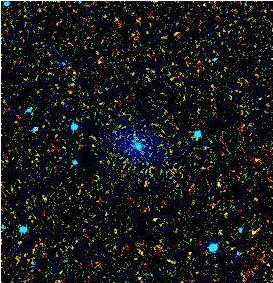star: (236, 216, 266, 246)
